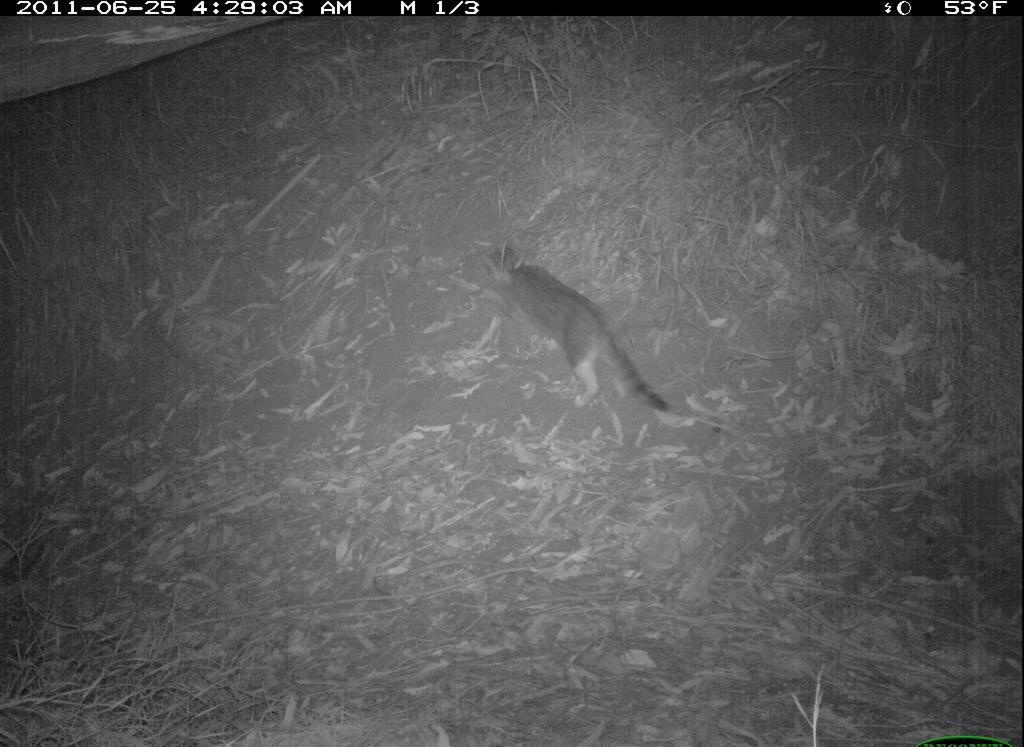cat: (468, 232, 701, 426)
